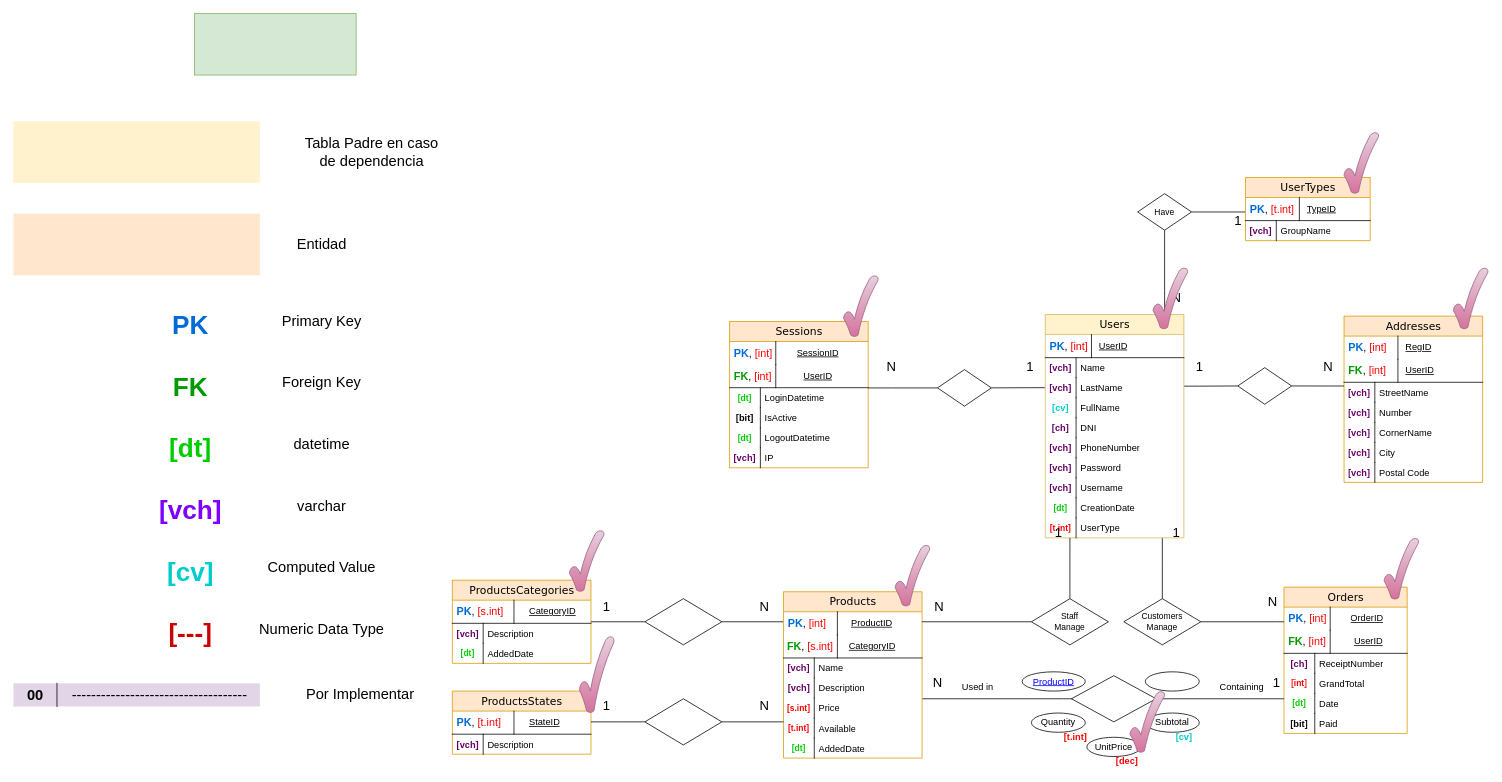
Image size: 1502x782. Some labels were removed from this diagram. The shapes that lost their labels are listed below. From the top down, each one's box as (x1, y1, x2, y2) in pixels, then its label:
(194, 13, 356, 75): LEYENDA
(937, 369, 991, 406): Logs
(1237, 367, 1292, 404): Registers
(644, 598, 722, 645): Grouped In
(1071, 675, 1156, 722): ProductsToOrder
(1145, 671, 1199, 691): CartID
(644, 698, 722, 745): With
